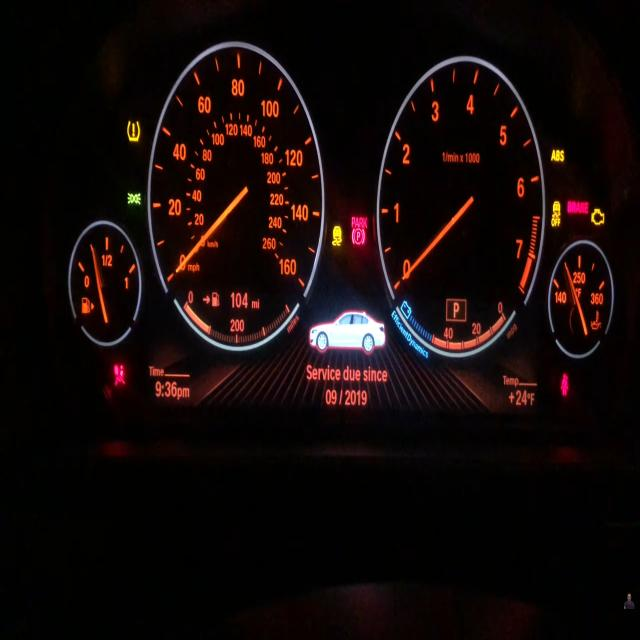Anti Lock Braking System: (551, 148, 565, 162)
Braking System Issue: (567, 200, 589, 215)
Check Engine: (591, 208, 605, 226)
Electronic Stability Problem -ESP-: (332, 225, 342, 247)
Low Tire Pressure Warning Light: (126, 120, 140, 142)
SRS-Airbag: (114, 364, 125, 386)
